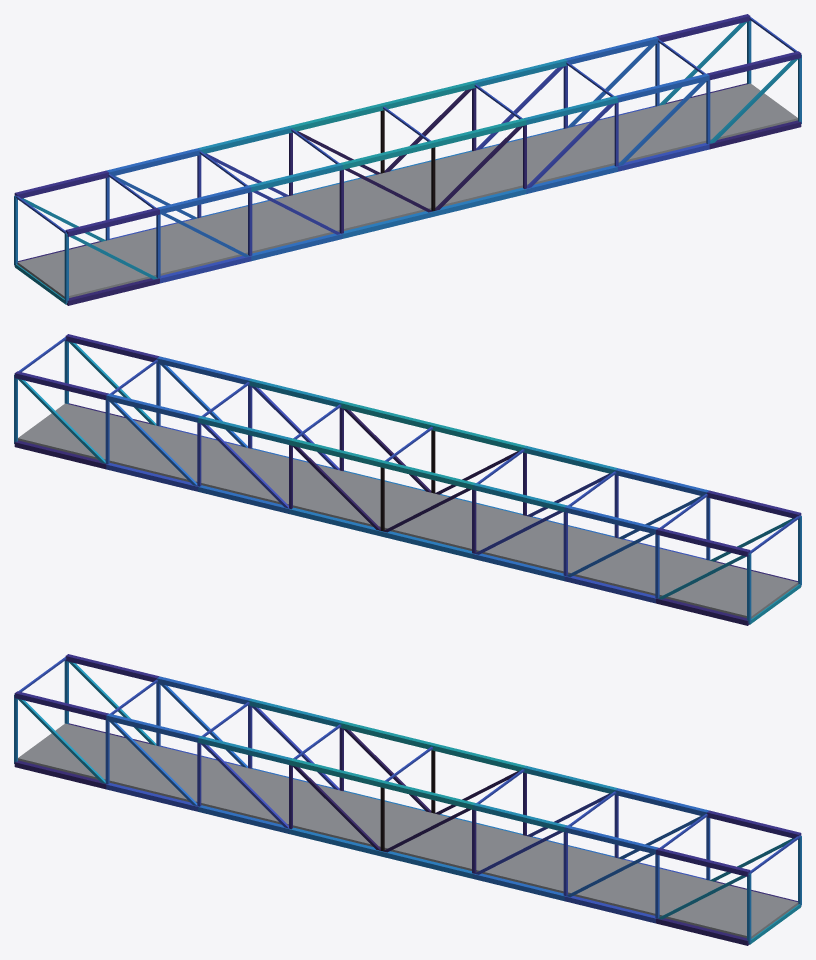
File: 25_2.25_8_HEA240.glb
3 views of the same model, one above another, from view 1: azimuth 30°, elevation 25°; view 2: azimuth 150°, elevation 25°; view 3: azimuth 330°, elevation 25° (orthographic).
Size of the model in its own units: 25.09 by 2.41 by 3.16.
